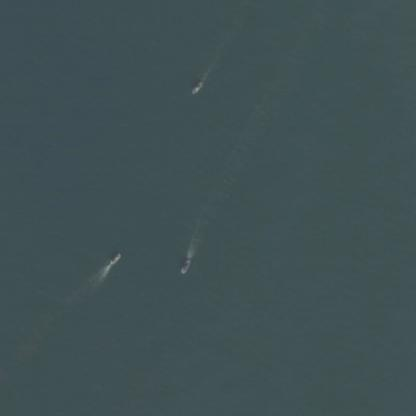ship: (175, 253, 195, 278), (186, 76, 206, 100), (104, 247, 124, 270)
